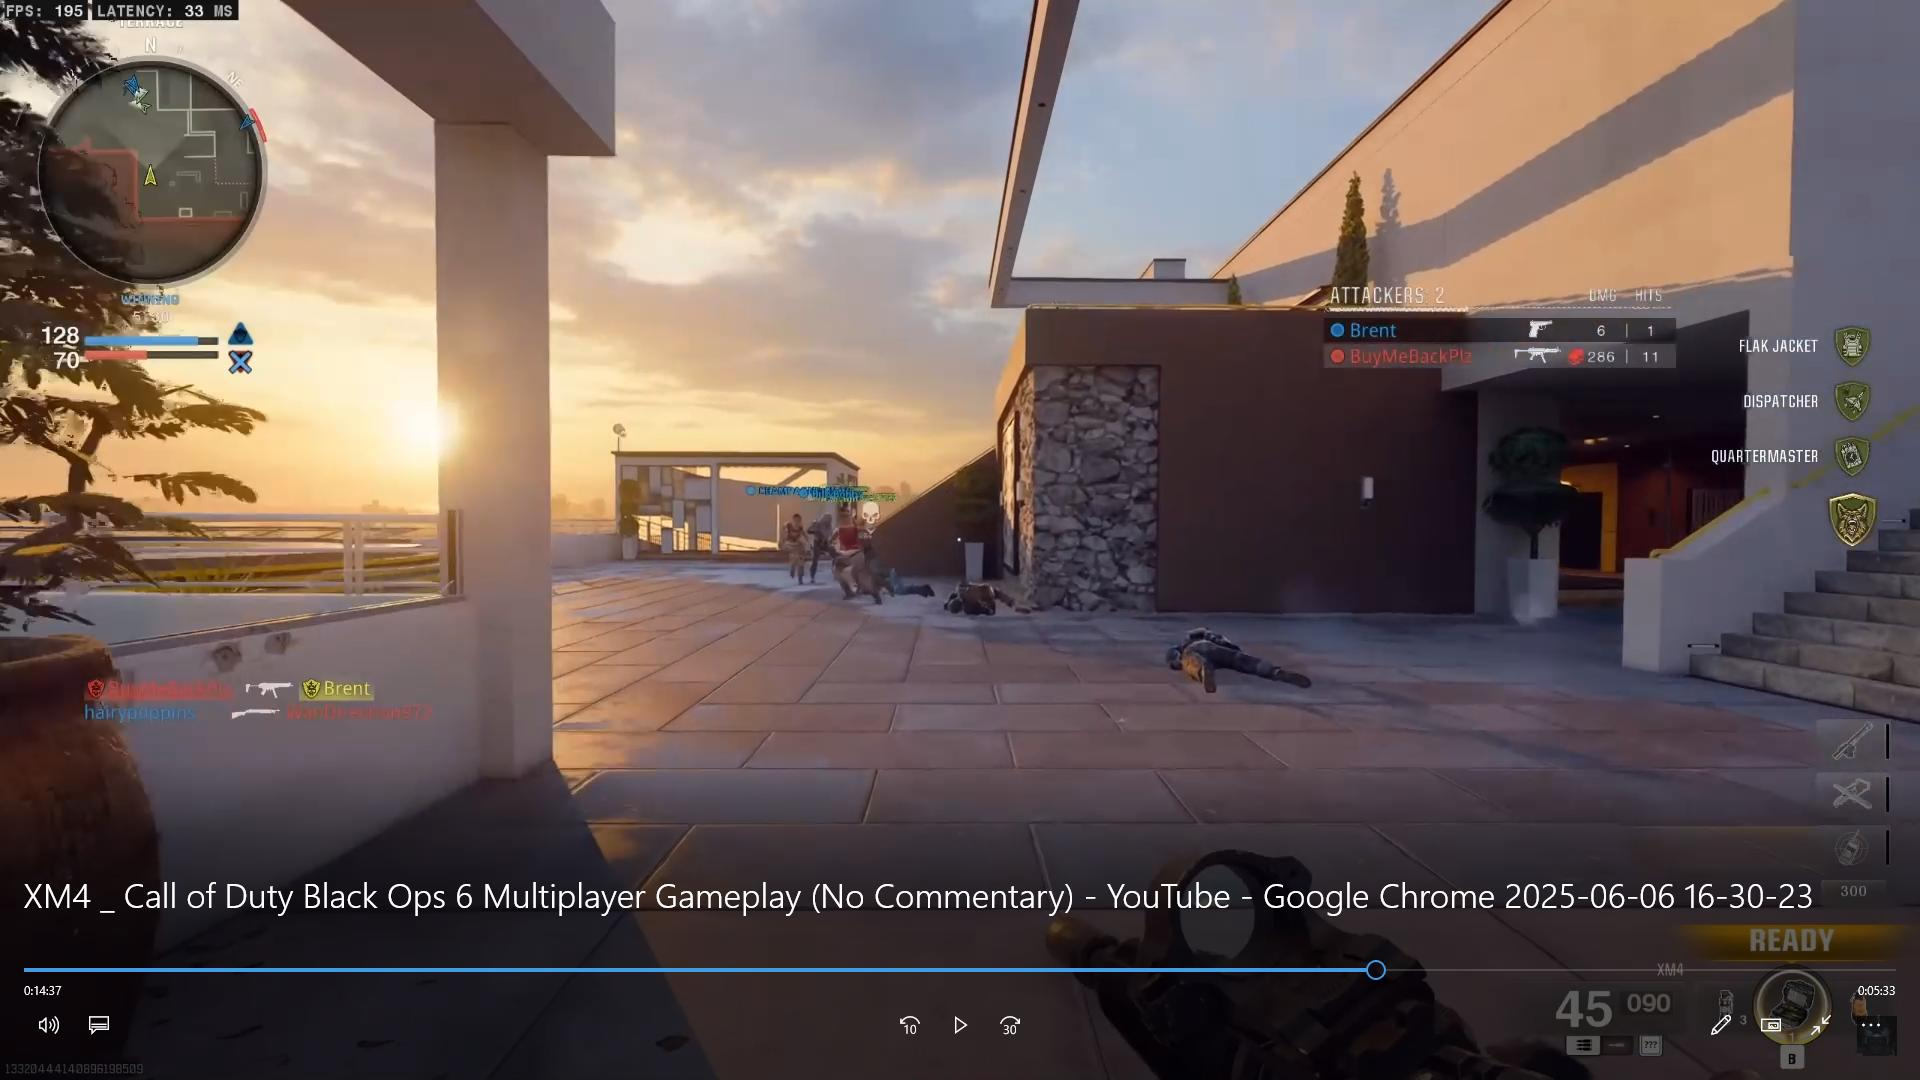Enemy: (839, 513, 873, 608), (778, 509, 807, 583), (810, 508, 835, 582)
